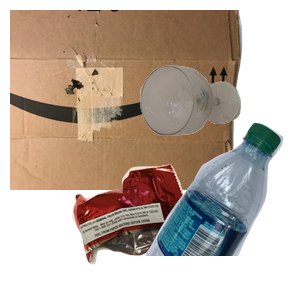cardboard: (10, 10, 245, 190)
glass: (138, 63, 300, 191)
plastic: (142, 120, 300, 300)
trash: (70, 162, 257, 300)
